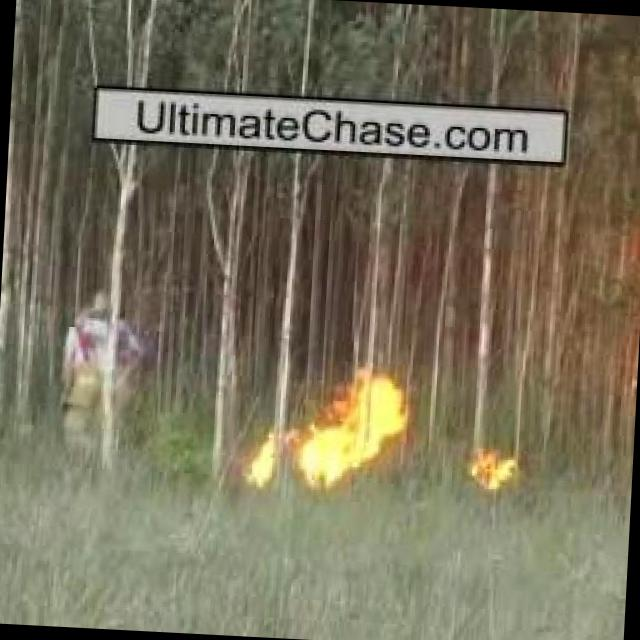Fire: (298, 363, 416, 490), (466, 438, 523, 498), (247, 428, 280, 494)
